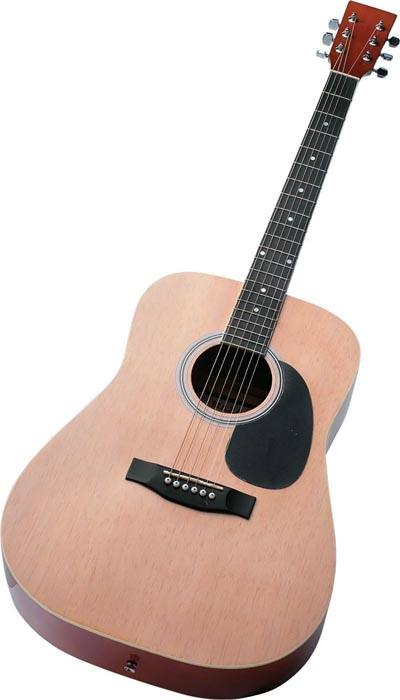guitar: (1, 1, 394, 697)
